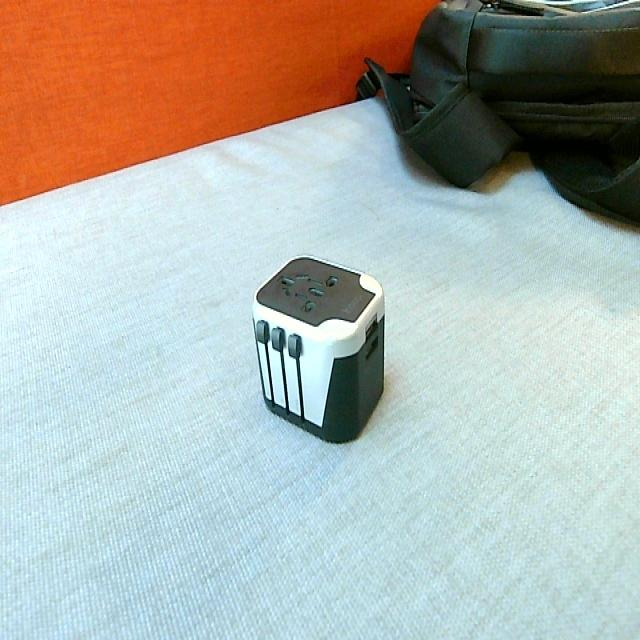adapter: (251, 253, 385, 443)
